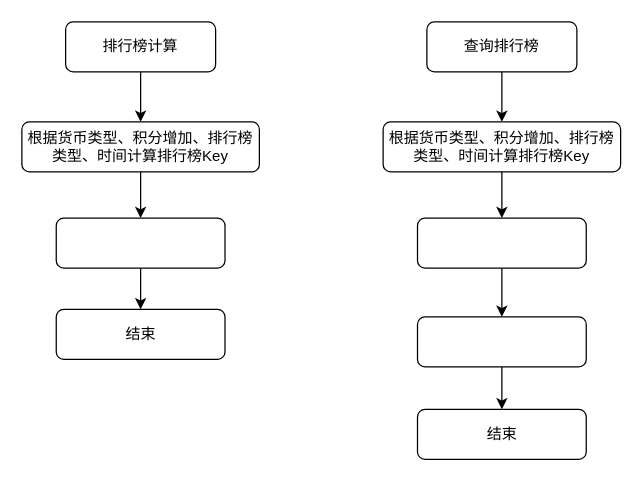
Image size: 643x481. Some labels were removed from this diagram. The shapes that lost their labels are listed below. From the top down, each one's box as (x1, y1, x2, y2) in pixels, then its label:
(55, 217, 225, 268): 存入Redis有序集合
(416, 217, 586, 268): 查询我的排行名次
(416, 316, 586, 367): 分页查询排行榜
